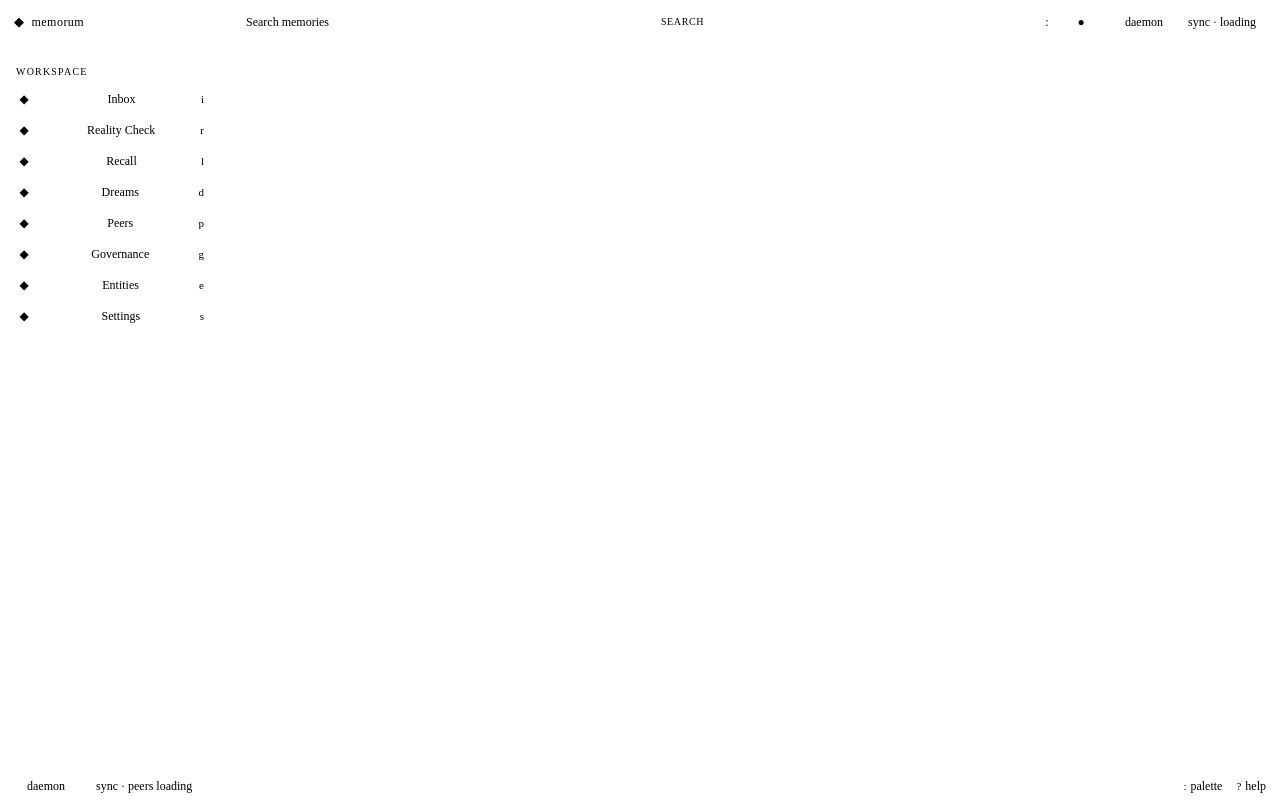
Test: Shell readiness states › submits global memory search and renders results from /api/search
Type "pnpm" into the field labelled "Search memories".
click(448, 22); type("pnpm")  # box [244,8,653,36]
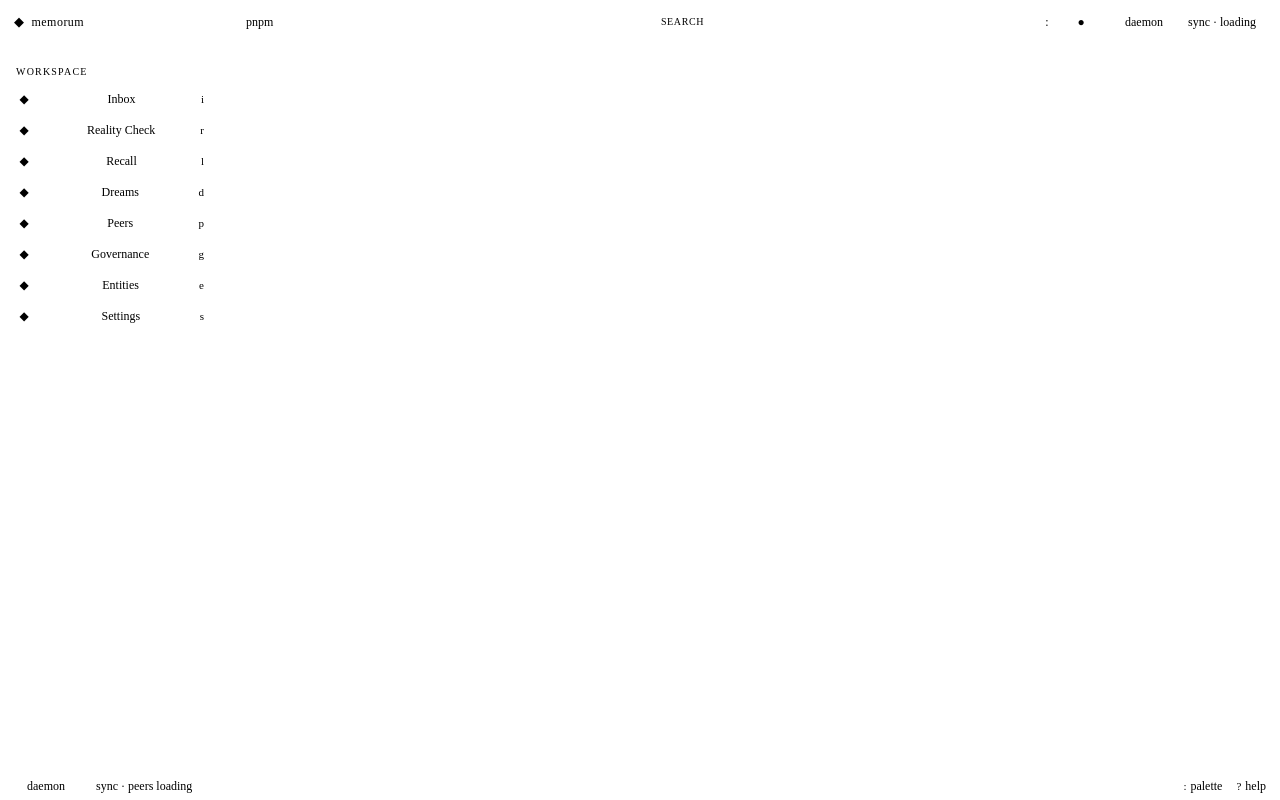
Submit the form named "Search memories", box [234,8,714,36]
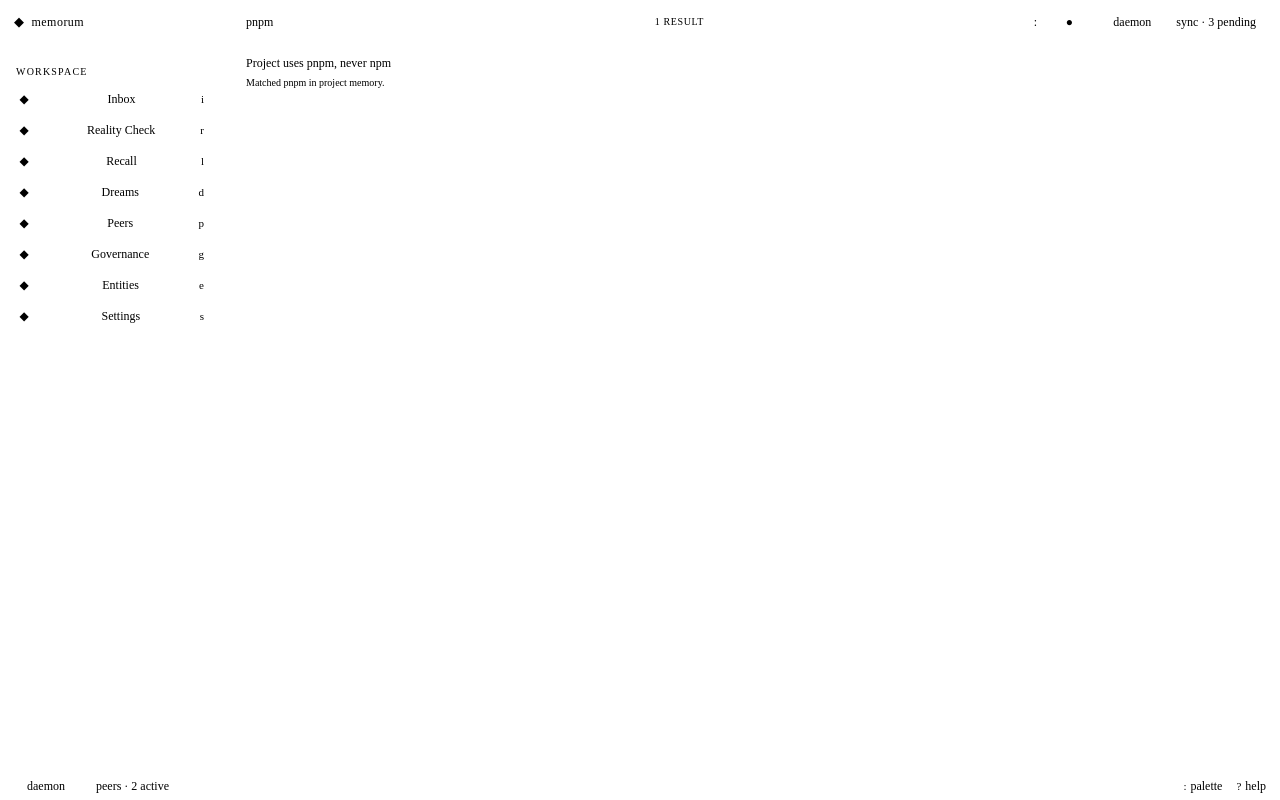
Expected: the option "Project uses pnpm, never npm Matched pnpm in project memory." is shown, [246,56,391,88]
Expected: the button "1 result" is shown, [655,14,704,30]
